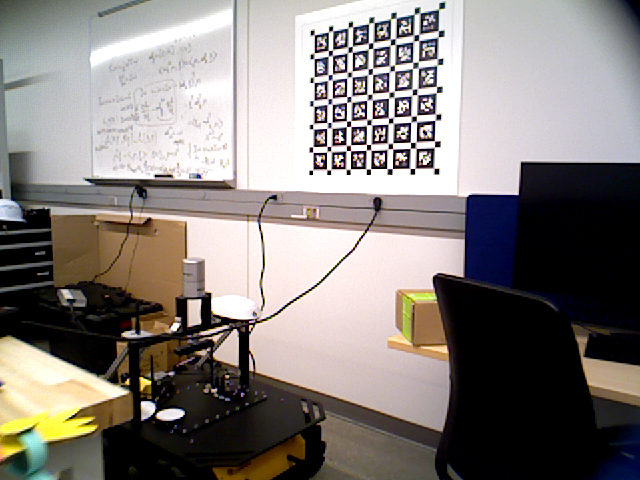painting4: (289, 1, 458, 192)
